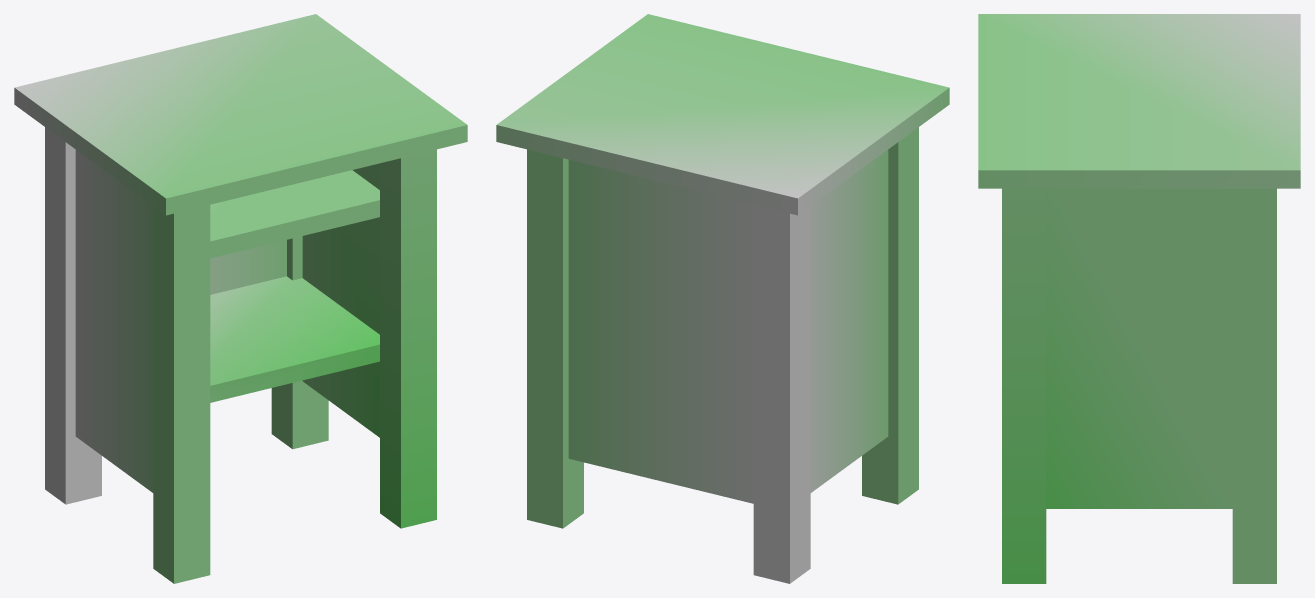
Rendered from Table_5.fbx.
The picture shows the model from 3 angles, left to right: view 1: azimuth 30°, elevation 25°; view 2: azimuth 150°, elevation 25°; view 3: azimuth 270°, elevation 25°; orthographic projection. The views are drawn at different scales.
Parts seen in each view (by area): view 1: Table_5; view 2: Table_5; view 3: Table_5.
Boxes of the visible parts, x1,y1,x2,y2 form: Table_5: (14,14,467,583); Table_5: (496,14,949,583); Table_5: (978,14,1300,583).
Size of the model in its own units: 0.7517 by 0.9487 by 0.6542.
